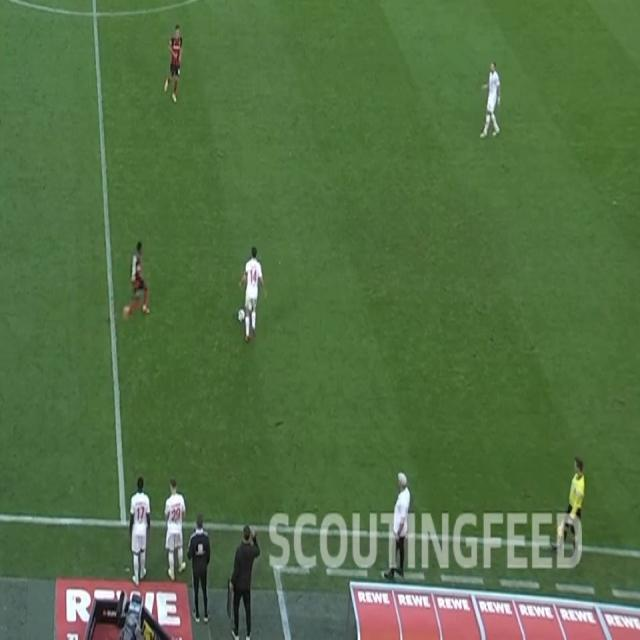ball: (237, 308, 246, 322)
